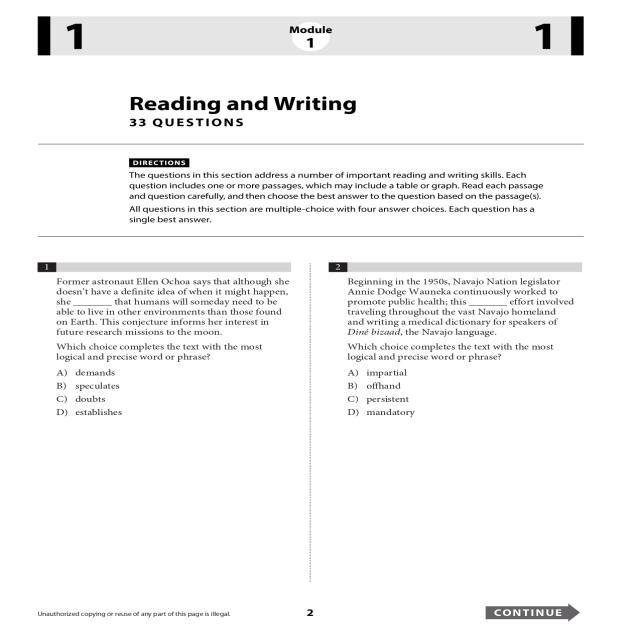Answer_Block: (24, 362, 304, 424), (318, 365, 598, 427)
Instruction: (47, 152, 574, 226)
Question_Answer_Block: (318, 256, 598, 427), (24, 257, 304, 424)
Question_Block: (318, 256, 598, 365), (24, 257, 304, 362)
Question_Paper_Area: (24, 257, 304, 590), (318, 256, 598, 589)
